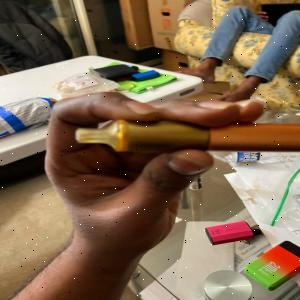Golden-E-Ciggirate: (67, 115, 300, 159)
